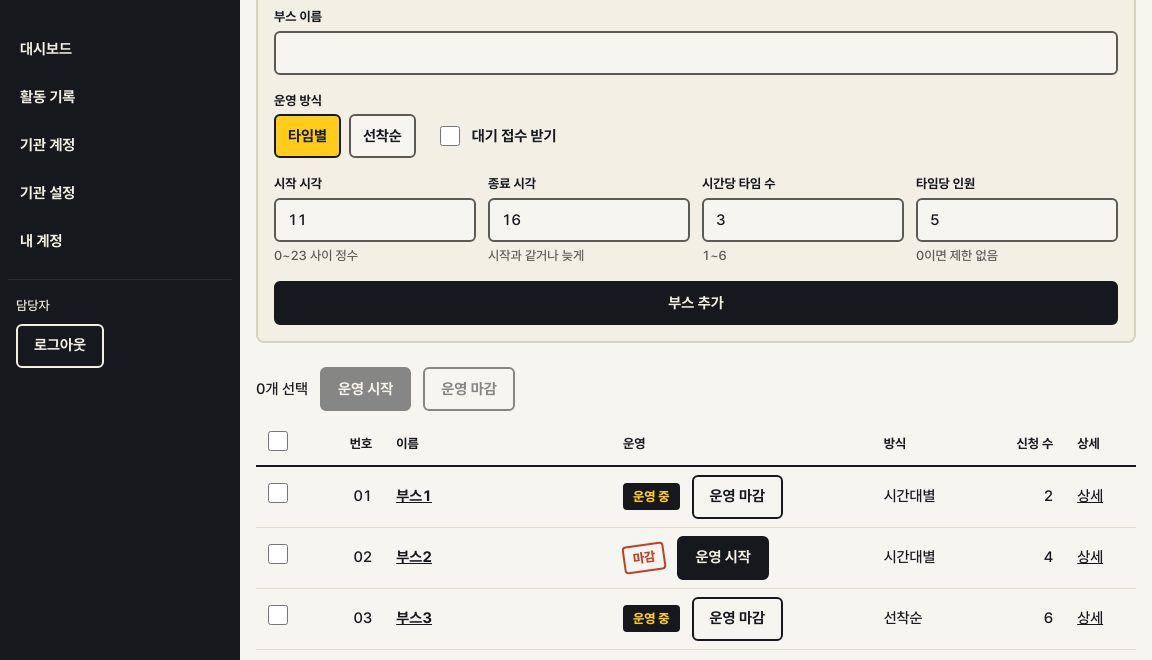
Scenario: 행사 화면 › 개별 운영 전환이 실패하면 안내한다
The width and height of the screenshot is (1152, 660).
(page scrolled)
What coordinates should you click on to do the following:
click the button "운영 마감" in the row of "01"
I would click on:
 (737, 497)
Its box is [692,475,783,519].
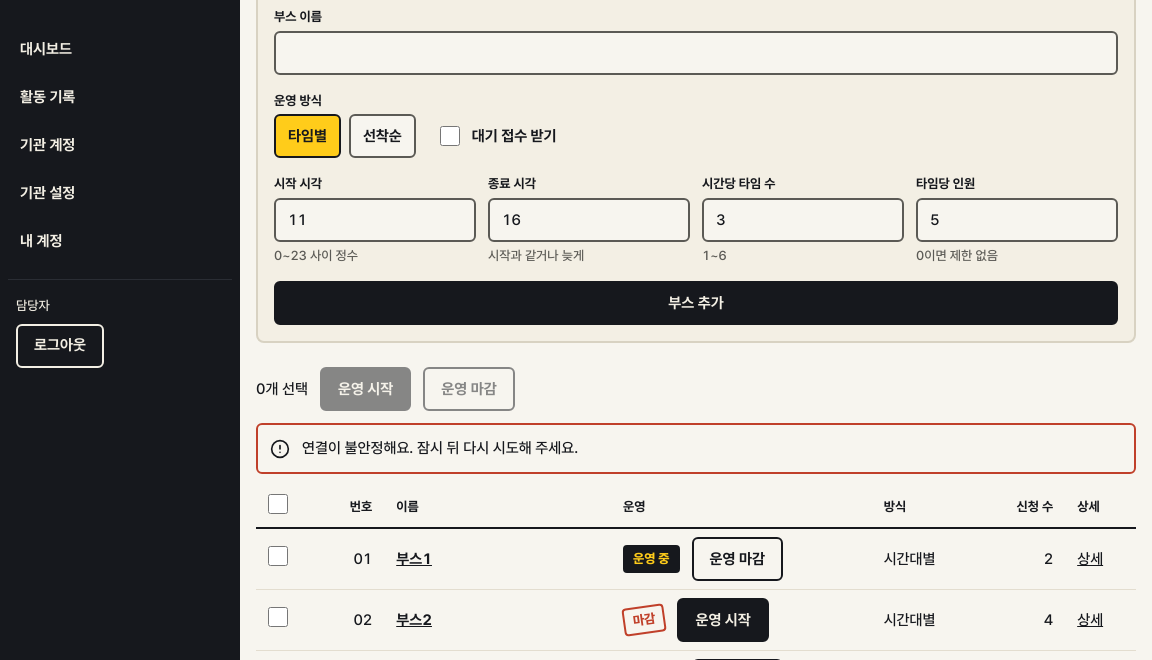
Expected: the text "연결이 불안정해요. 잠시 뒤 다시 시도해 주세요." is shown, [302,439,578,457]
